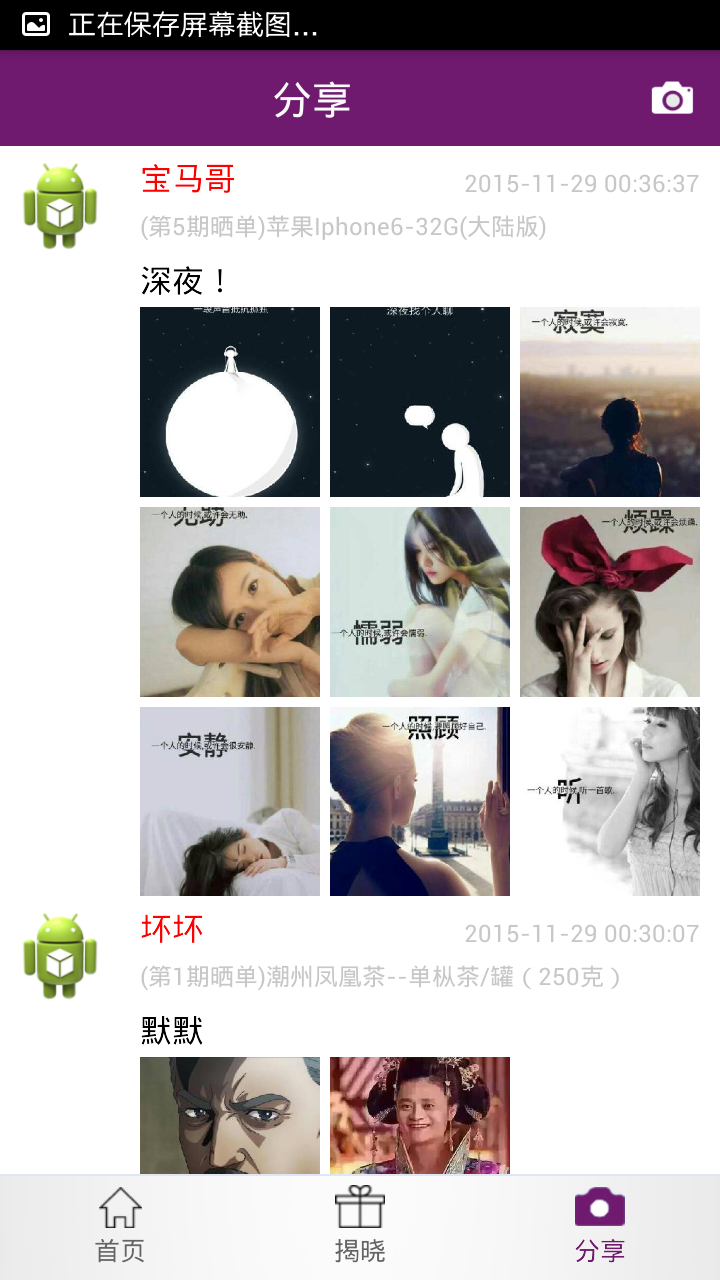imgview: (140, 309, 707, 901), (113, 1062, 578, 1181), (17, 159, 114, 252)
nav: (21, 1178, 720, 1271)
